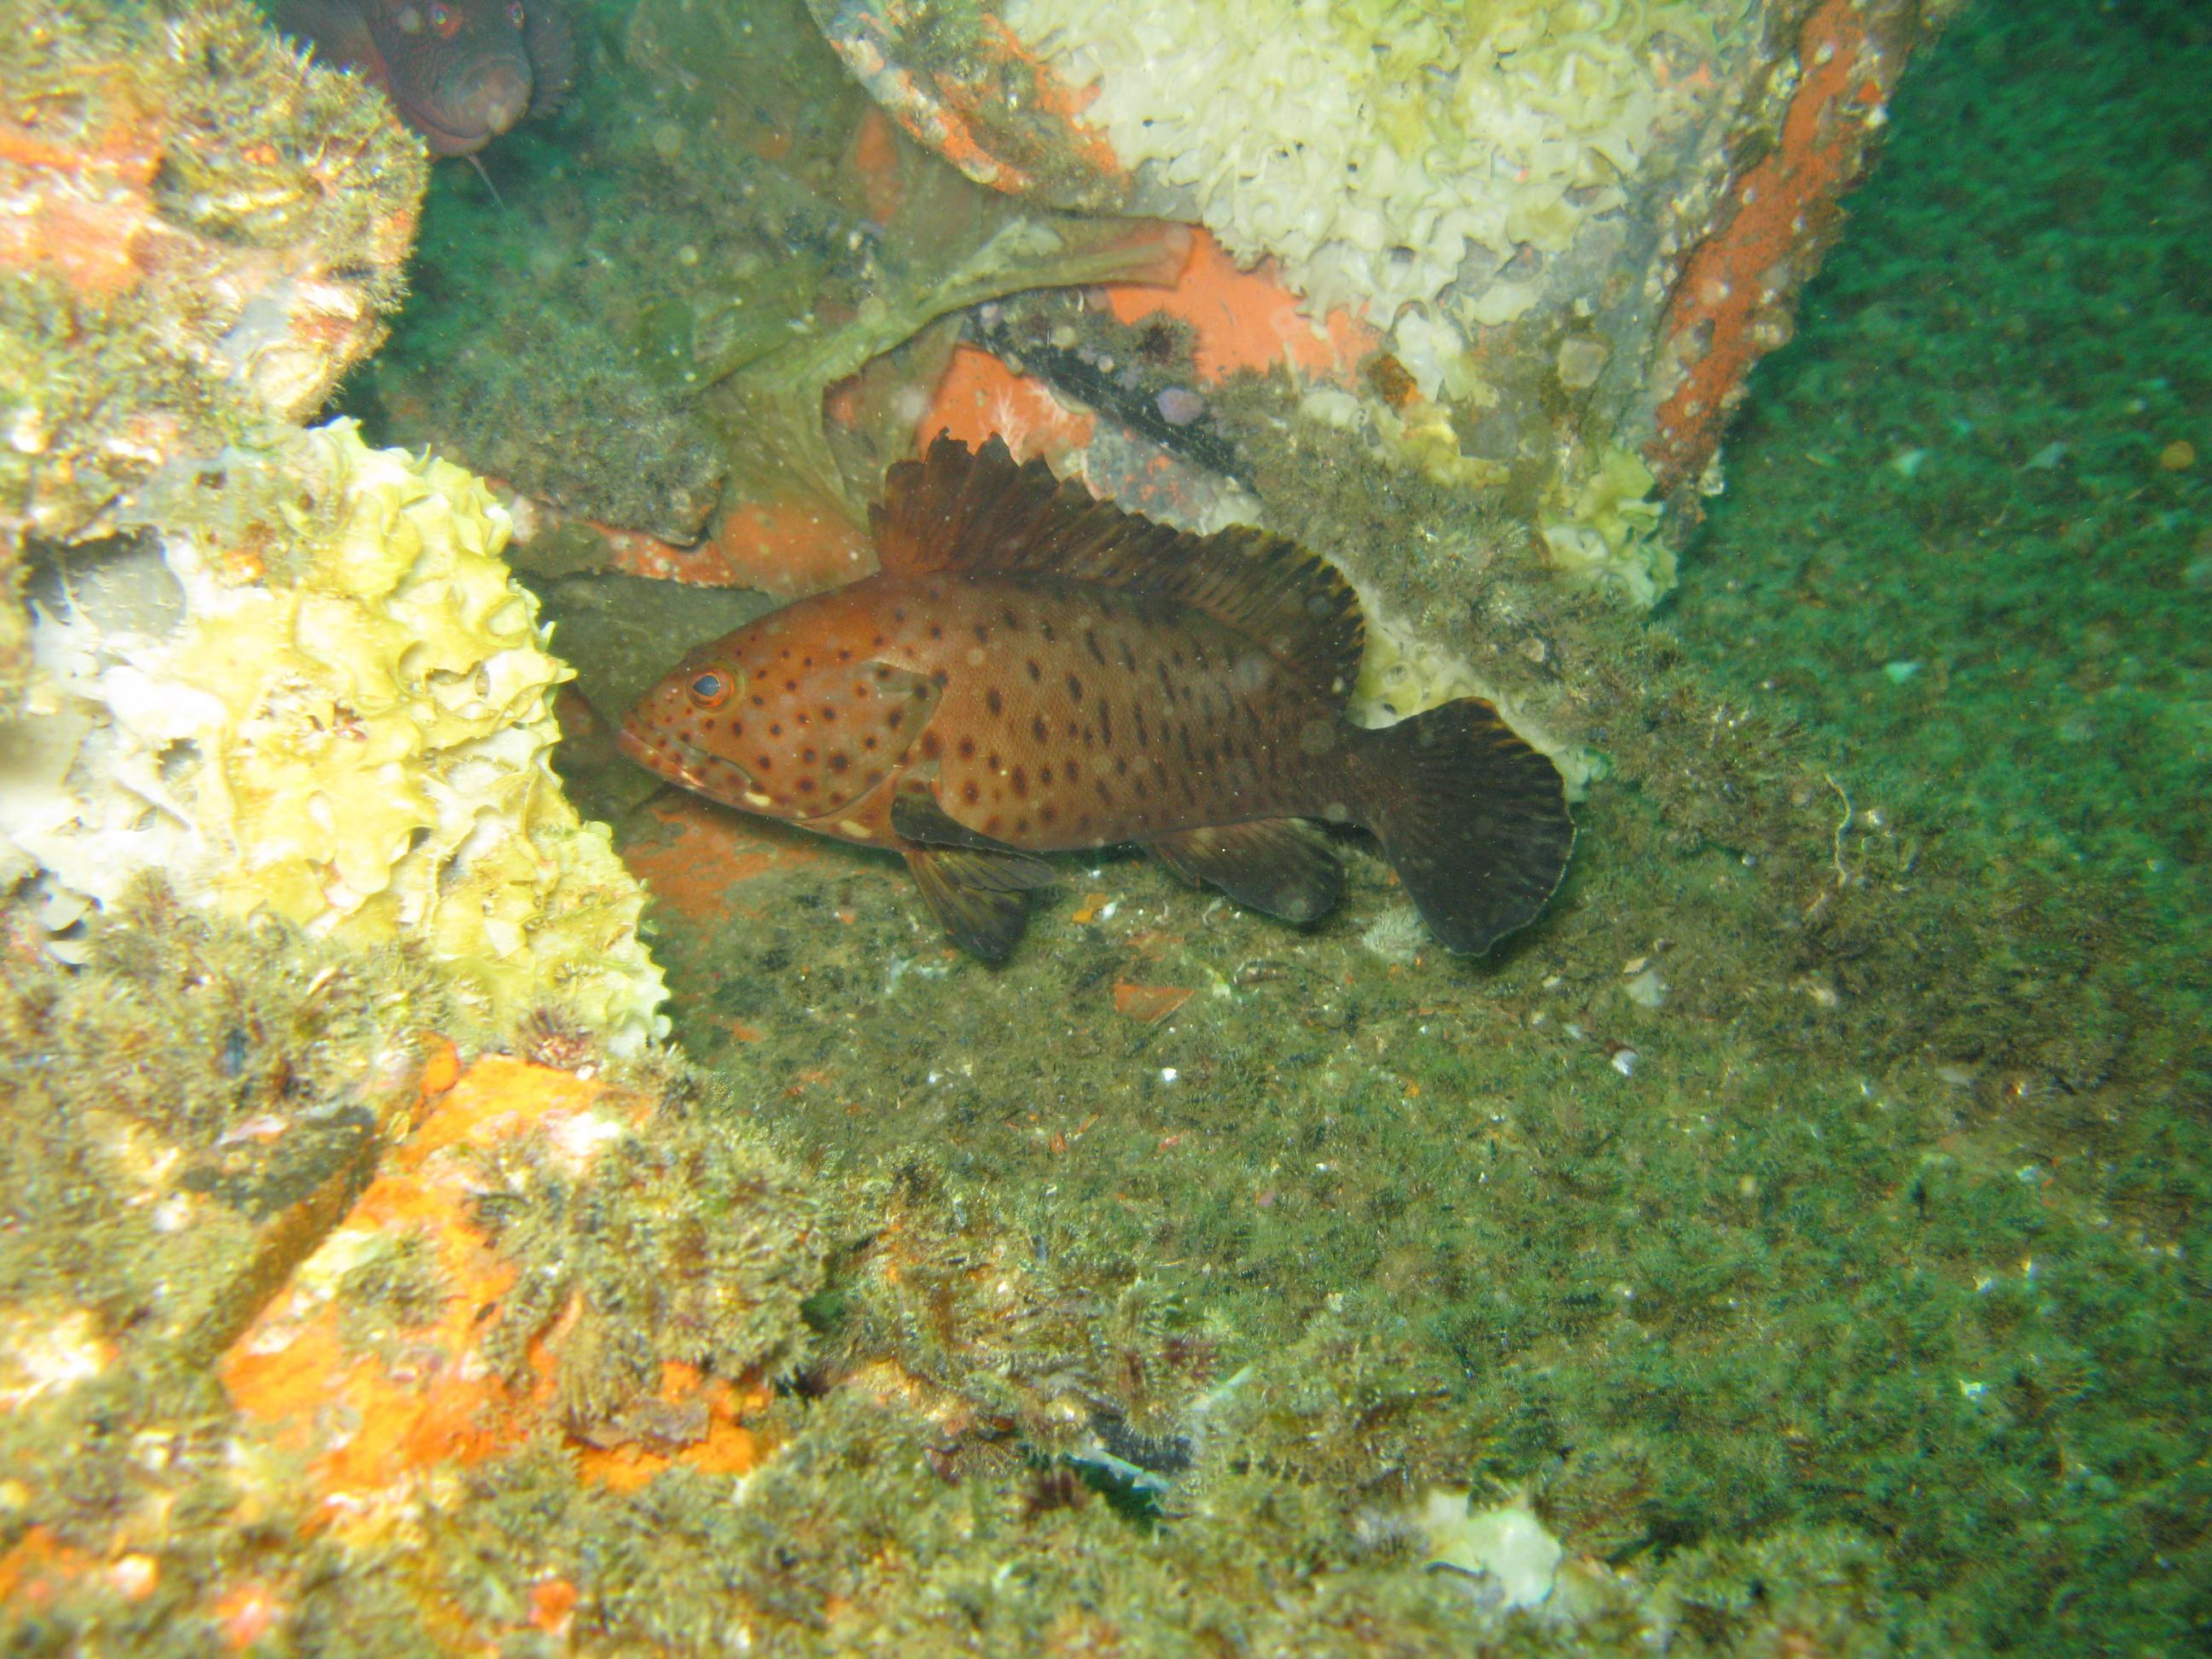Fish: (617, 427, 1573, 981)
